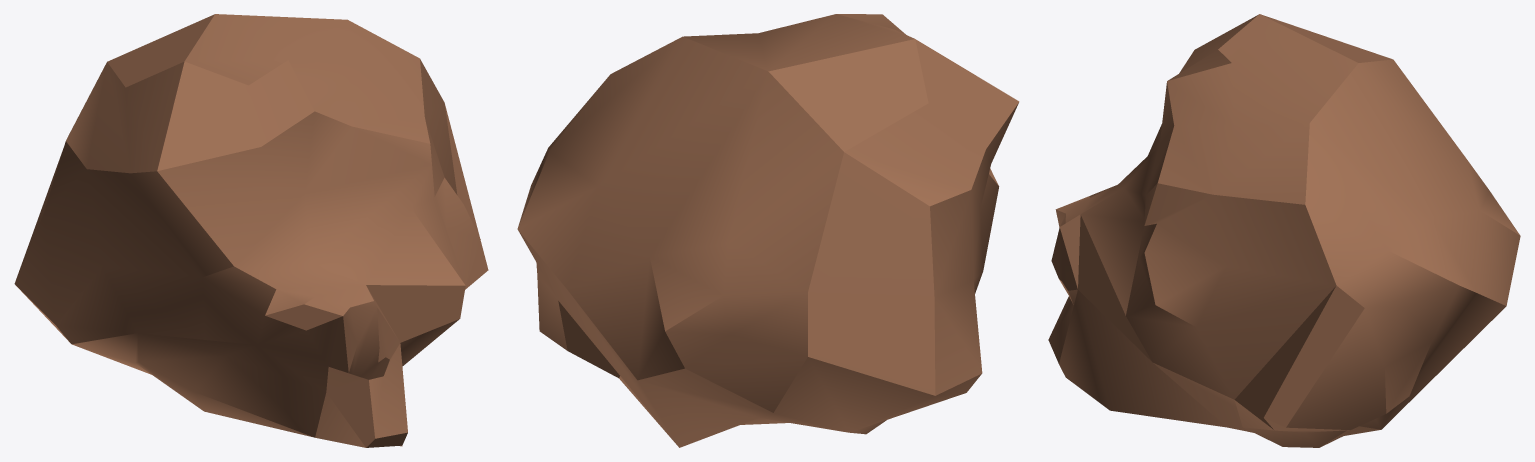
File: rock_medium_4.fbx
The picture shows the model from 3 angles, left to right: view 1: azimuth 30°, elevation 25°; view 2: azimuth 150°, elevation 25°; view 3: azimuth 270°, elevation 25°; orthographic projection. The views are drawn at different scales.
Parts seen in each view (by area): view 1: Retopo_Rock generator addon.016; view 2: Retopo_Rock generator addon.016; view 3: Retopo_Rock generator addon.016.
Part boxes in pixels (x1,y1,x2,y2): Retopo_Rock generator addon.016: (14, 14, 488, 447); Retopo_Rock generator addon.016: (517, 14, 1019, 447); Retopo_Rock generator addon.016: (1048, 14, 1520, 447).
Bounding box in the file's own units: 42.61 × 37.98 × 45.56.
